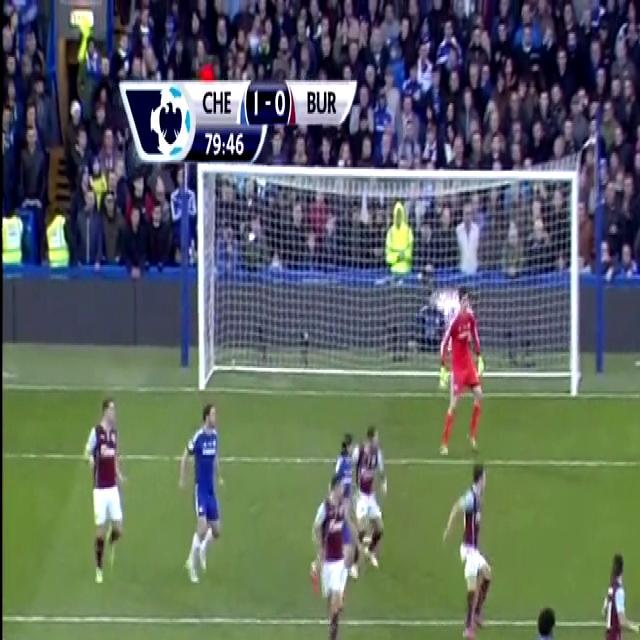goalkeeper: (439, 277, 490, 487)
soccer-player: (80, 381, 138, 594), (174, 387, 228, 586), (443, 457, 496, 640), (308, 473, 357, 640), (352, 415, 389, 573), (590, 538, 640, 640), (324, 412, 355, 558), (517, 597, 572, 640)
